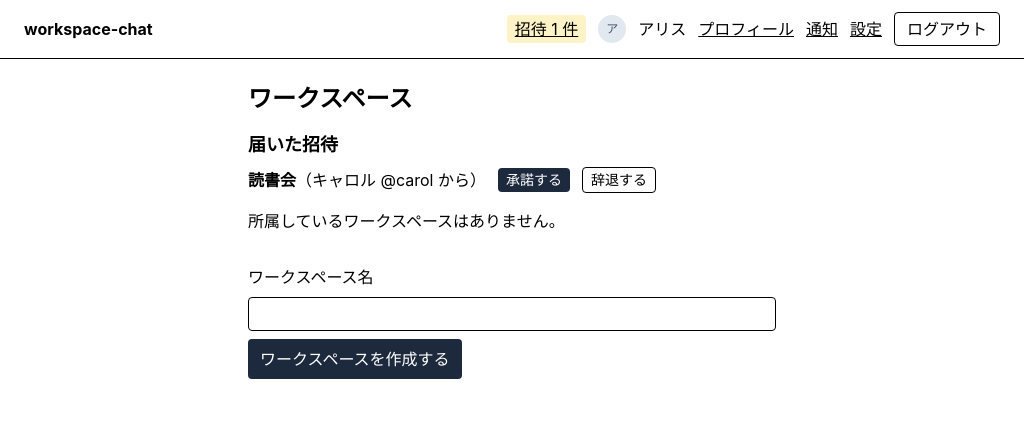
Test case: 届いた招待の承諾と辞退（F-38） › 承諾が断られたら理由を出す
Expected: the list named "届いた招待" is shown, [248,167,656,193]
Click the button with aria-label "読書会 への招待を承諾する" at (534, 180), box [498,168,570,192]
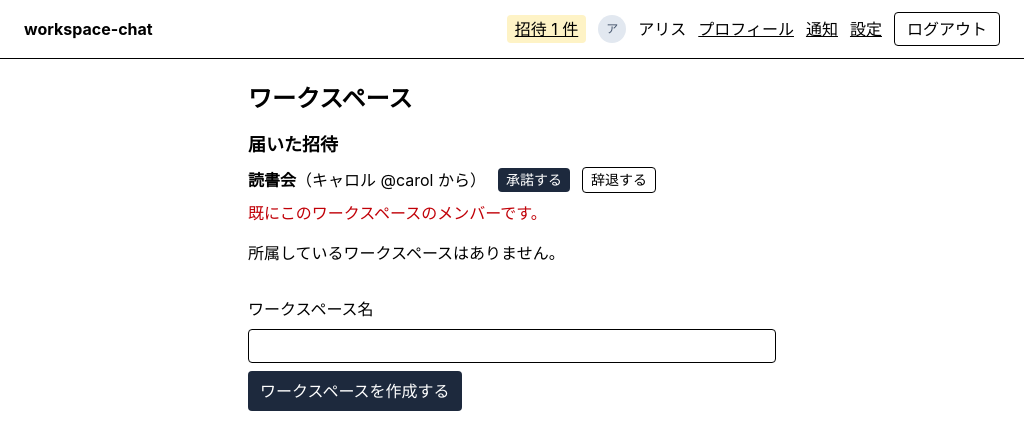
Expected: the message shows "既にこのワークスペースのメンバーです", [248,203,547,223]
